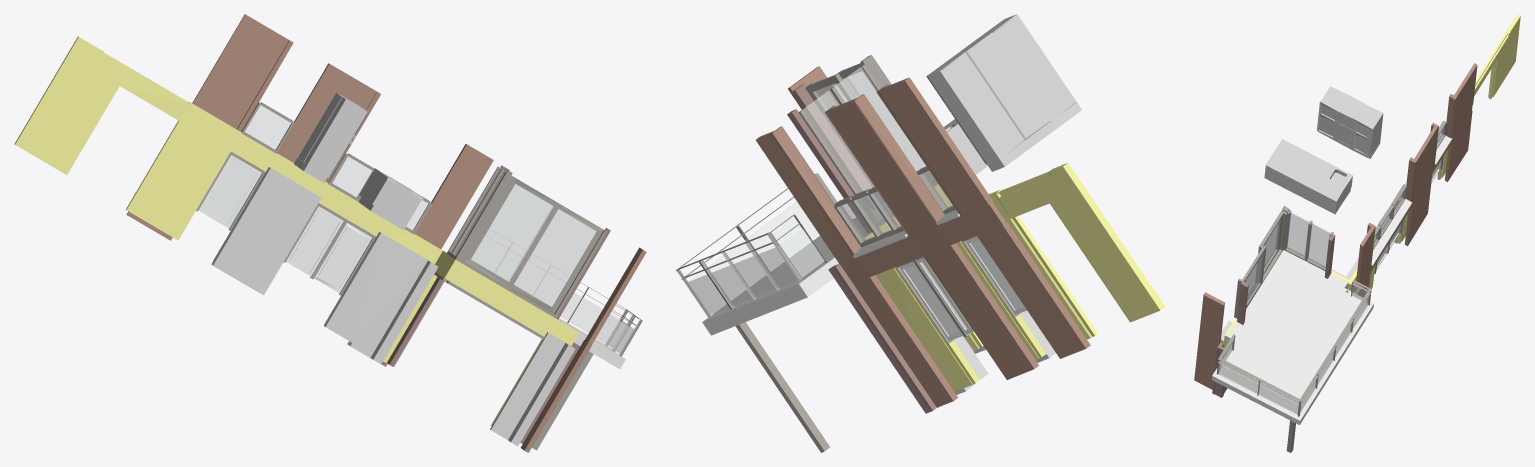
The picture shows the model from 3 angles, left to right: view 1: azimuth 30°, elevation 25°; view 2: azimuth 150°, elevation 25°; view 3: azimuth 270°, elevation 25°; orthographic projection. The views are drawn at different scales.
Parts seen in each view (by area): view 1: mesh; view 2: mesh; view 3: mesh.
Part boxes in pixels (bbox=[...]): mesh: bbox=[14, 14, 646, 452]; mesh: bbox=[675, 14, 1165, 452]; mesh: bbox=[1194, 14, 1520, 452].
Size of the model in its own units: 13.33 by 10.45 by 9.66.
